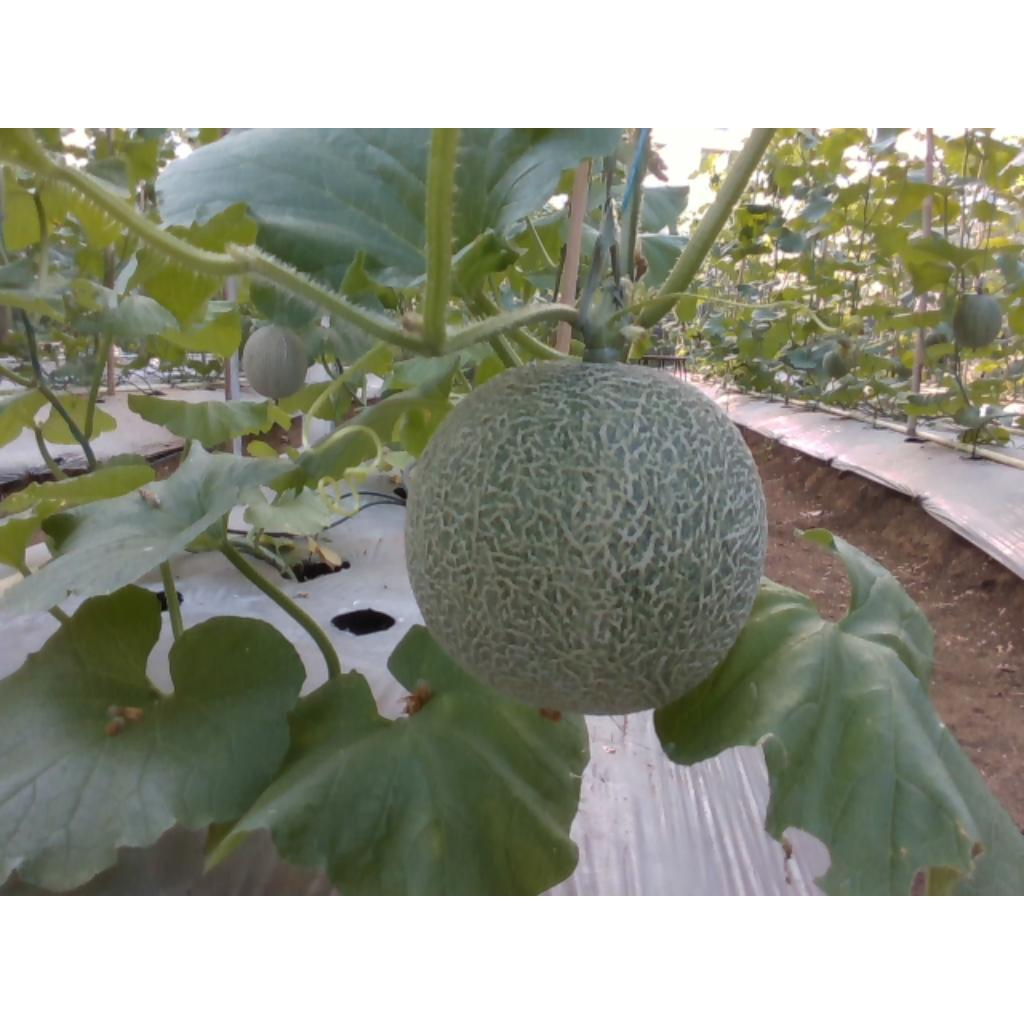melon: (406, 362, 766, 714)
